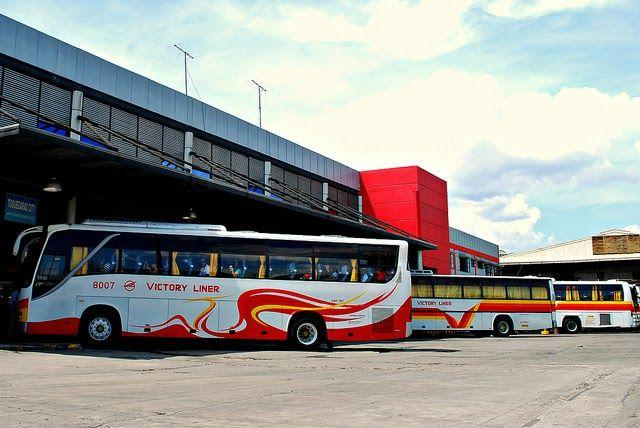bus: (14, 219, 412, 346), (410, 272, 557, 338), (550, 279, 638, 333)
